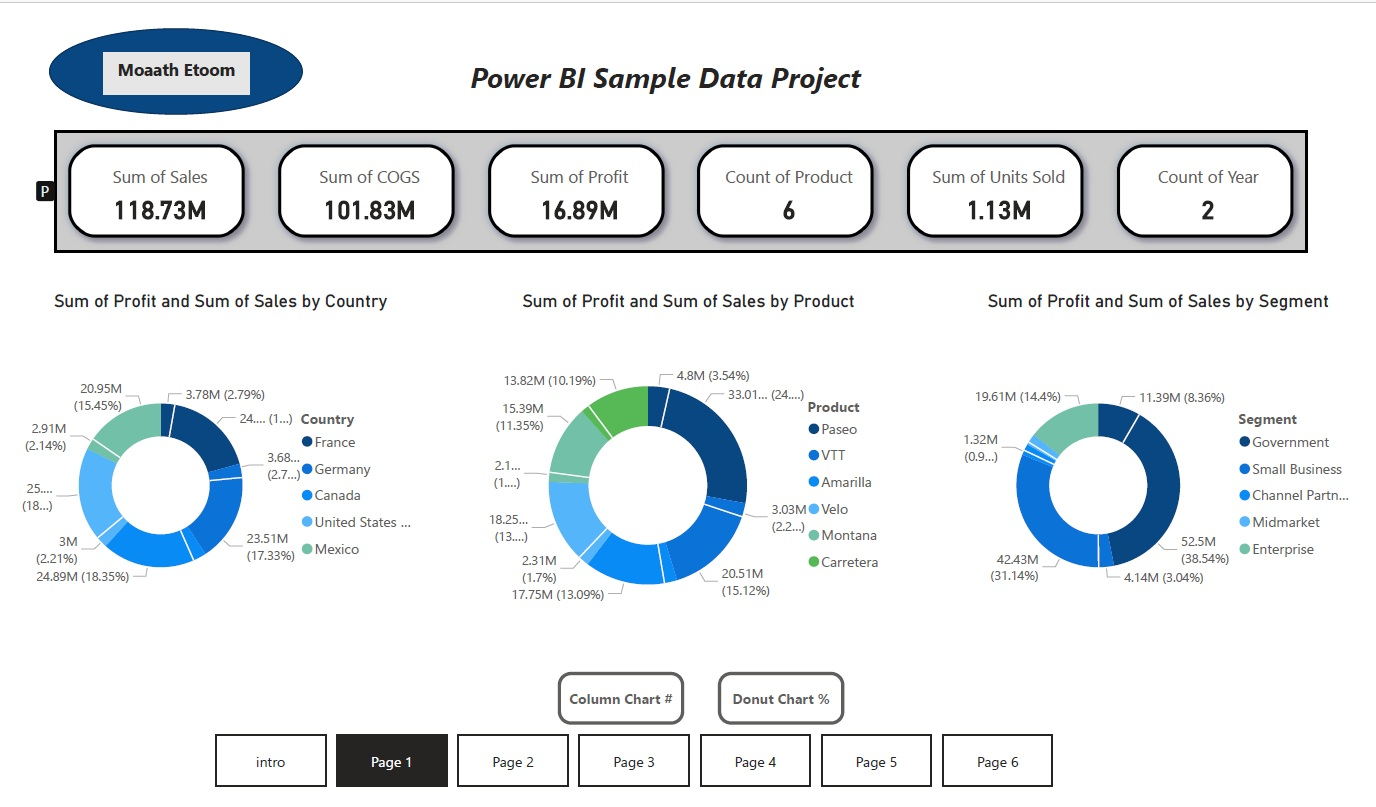

This screenshot's page, from the dashboard's own definition file:
{"tool":"powerbi","page":{"name":"Page 1","canvas":[1280,720],"ordinal":1},"visuals":[{"type":"textbox","box":[427.1,23.4,413.5,46.8],"z":2000},{"type":"shape","title":"Sample Logo","box":[32,0,241.2,82.5],"z":3000},{"type":"textbox","box":[83.7,23.4,137.8,39.4],"z":4000},{"type":"pageNavigator","box":[189.5,669.5,800,50.5],"z":5000},{"type":"cardVisual","fields":{"Data":["Sum(financials.Sales)","Sum(financials.COGS)","Sum(financials.Profit)","Count(financials.Product)","Sum(financials.Units Sold)","Count(financials.Year)"]},"box":[32,92.3,1203.7,125.5],"z":6000},{"type":"donutChart","fields":{"Category":["financials.Segment"],"Y":["Sum(financials.Profit)","Sum(financials.Sales)"]},"box":[889.8,248.9,390.2,350.8],"z":8000},{"type":"donutChart","fields":{"Category":["financials.Product"],"Y":["Sum(financials.Profit)","Sum(financials.Sales)"]},"box":[444.3,248.9,390.2,350.8],"z":9000},{"type":"donutChart","fields":{"Category":["financials.Country"],"Y":["Sum(financials.Profit)","Sum(financials.Sales)"]},"box":[0,248.9,390.2,350.8],"z":10000},{"type":"actionButton","box":[514.7,610.9,120.6,50.5],"z":11000},{"type":"actionButton","title":"Dounat Chart %","box":[667.3,610.9,119.4,50.5],"z":12000}]}

Visuals, with their boxes on the page's 1280x720 design canvas (x1, y1, x2, y2). These are canvas units, not pixel positions in the 1376x807 screenshot, which may show the page scaled, cropped or inside an application window:
textbox: locate(427, 23, 841, 70)
"Sample Logo" shape: locate(32, 0, 273, 82)
textbox: locate(84, 23, 222, 63)
pageNavigator: locate(190, 670, 990, 720)
cardVisual - Sum(financials.Sales) x Sum(financials.COGS): locate(32, 92, 1236, 218)
donutChart - financials.Segment x Sum(financials.Profit): locate(890, 249, 1280, 600)
donutChart - financials.Product x Sum(financials.Profit): locate(444, 249, 834, 600)
donutChart - financials.Country x Sum(financials.Profit): locate(0, 249, 390, 600)
actionButton: locate(515, 611, 635, 661)
"Dounat Chart %" actionButton: locate(667, 611, 787, 661)
